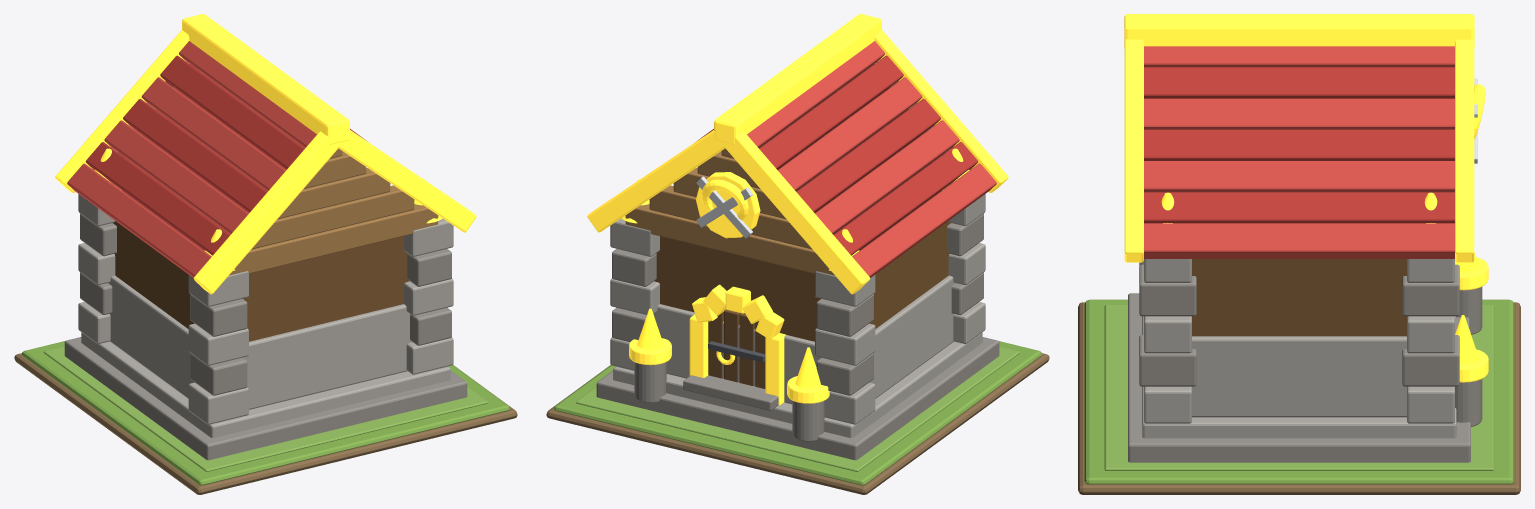
Rendered from hero_hall_lv5.glb.
3 views of the same model, side by side, from view 1: azimuth 30°, elevation 25°; view 2: azimuth 150°, elevation 25°; view 3: azimuth 270°, elevation 25° (orthographic). The views are drawn at different scales.
Parts seen in each view (by area): view 1: HeroStoneWainscot, HeroHallCore, HeroPlinth1, Base_Grass, HeroPlinth2, RidgeBeam, Base_Inner, Base_Dirt, Bargeboard_-1_-1, Gable_-1_0, RoofSlope_-1_3, RoofSlope_-1_4 (+25 smaller); view 2: HeroHallCore, HeroStoneWainscot, HeroPlinth1, Base_Grass, RidgeBeam, Base_Inner, Base_Dirt, Bargeboard_1_-1, HeroPlinth2, RoofSlope_-1_3, RoofSlope_-1_4, RoofSlope_-1_6 (+41 smaller); view 3: HeroStoneWainscot, HeroHallCore, Base_Grass, RidgeBeam, RoofSlope_1_6, HeroPlinth1, RoofSlope_1_1, RoofSlope_1_2, RoofSlope_1_3, RoofSlope_1_4, Base_Inner, RoofSlope_1_5 (+20 smaller).
Part boxes in pixels (left/top/right/bottom): HeroStoneWainscot: left=108, top=275, right=412, bottom=409; HeroHallCore: left=113, top=141, right=409, bottom=341; HeroPlinth1: left=64, top=337, right=467, bottom=460; Base_Grass: left=22, top=341, right=509, bottom=485; HeroPlinth2: left=81, top=332, right=450, bottom=437; RidgeBeam: left=182, top=14, right=349, bottom=144; Base_Inner: left=43, top=346, right=488, bottom=471; Base_Dirt: left=14, top=353, right=517, bottom=494; Bargeboard_-1_-1: left=193, top=131, right=342, bottom=294; Gable_-1_0: left=229, top=204, right=438, bottom=275; RoofSlope_-1_3: left=123, top=99, right=267, bottom=212; RoofSlope_-1_4: left=104, top=120, right=248, bottom=234; HeroHallCore: left=654, top=141, right=950, bottom=341; HeroStoneWainscot: left=653, top=275, right=955, bottom=404; HeroPlinth1: left=596, top=337, right=999, bottom=460; Base_Grass: left=554, top=341, right=1041, bottom=485; RidgeBeam: left=714, top=14, right=881, bottom=144; Base_Inner: left=575, top=346, right=1020, bottom=471; Base_Dirt: left=546, top=353, right=1049, bottom=494; Bargeboard_1_-1: left=721, top=131, right=870, bottom=294; HeroPlinth2: left=613, top=332, right=982, bottom=437; RoofSlope_-1_3: left=796, top=99, right=940, bottom=212; RoofSlope_-1_4: left=815, top=120, right=959, bottom=234; RoofSlope_-1_6: left=852, top=163, right=996, bottom=277; HeroStoneWainscot: left=1192, top=336, right=1406, bottom=417; HeroHallCore: left=1192, top=259, right=1406, bottom=336; Base_Grass: left=1084, top=299, right=1514, bottom=484; RidgeBeam: left=1124, top=14, right=1474, bottom=47; RoofSlope_1_6: left=1144, top=223, right=1454, bottom=258; HeroPlinth1: left=1128, top=293, right=1470, bottom=462; RoofSlope_1_1: left=1144, top=67, right=1454, bottom=98; RoofSlope_1_2: left=1144, top=98, right=1454, bottom=129; RoofSlope_1_3: left=1144, top=129, right=1454, bottom=160; RoofSlope_1_4: left=1144, top=161, right=1454, bottom=192; Base_Inner: left=1104, top=305, right=1494, bottom=470; RoofSlope_1_5: left=1144, top=192, right=1454, bottom=223.
Size of the model in its own units: 2.76 by 2.64 by 2.76.
